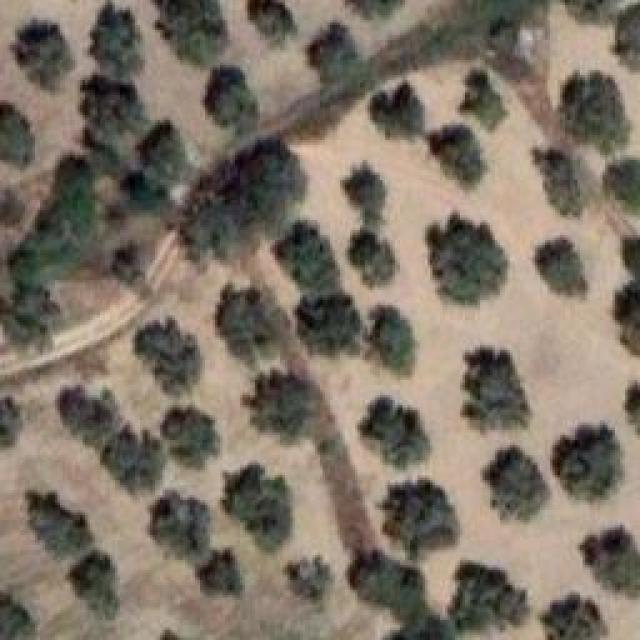Tree: (180, 138, 308, 259), (428, 213, 509, 304), (382, 480, 460, 558), (223, 465, 292, 553), (215, 285, 289, 366), (463, 347, 532, 432), (352, 550, 430, 623), (562, 73, 630, 156), (553, 425, 624, 501), (450, 563, 528, 631), (135, 318, 201, 395), (360, 398, 431, 468), (272, 220, 340, 293), (242, 370, 310, 442), (155, 0, 228, 66), (483, 450, 549, 522), (100, 425, 166, 495), (22, 488, 94, 551), (80, 75, 144, 145), (13, 20, 76, 91), (295, 290, 363, 355), (150, 493, 211, 563), (308, 23, 372, 89), (90, 3, 144, 81), (580, 528, 640, 594), (58, 388, 122, 448), (205, 65, 259, 136), (138, 120, 192, 190), (162, 405, 220, 467), (430, 125, 486, 186), (70, 548, 118, 616), (535, 148, 582, 216), (368, 305, 413, 375), (535, 238, 589, 296), (543, 592, 608, 640), (460, 70, 509, 131), (348, 228, 398, 286), (373, 85, 426, 138), (340, 160, 388, 217), (108, 242, 152, 301), (610, 280, 640, 354), (0, 103, 34, 168), (202, 553, 248, 600), (247, 0, 295, 44), (290, 555, 332, 601), (387, 613, 457, 640), (605, 160, 640, 211), (558, 0, 621, 28), (615, 0, 639, 71), (0, 592, 28, 640), (615, 233, 640, 278), (0, 398, 21, 448), (0, 187, 25, 227), (103, 208, 129, 237)
